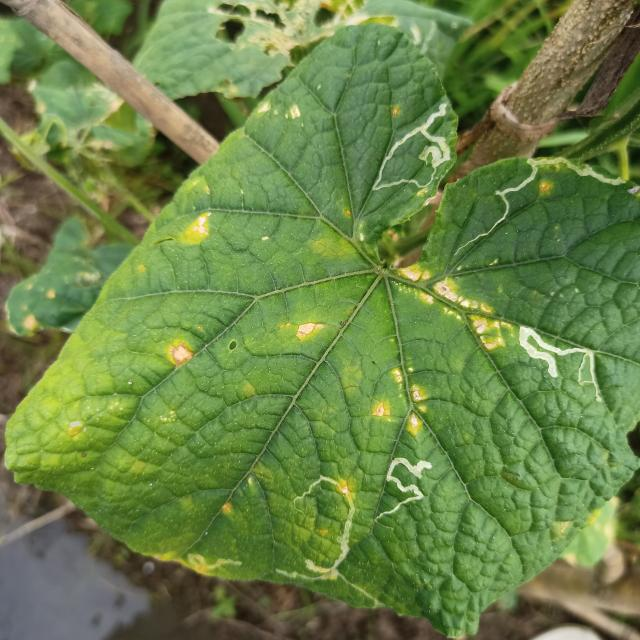disease_cucumber: (396, 261, 516, 353), (370, 363, 428, 439), (252, 100, 305, 126), (178, 210, 212, 249), (296, 320, 324, 345), (170, 342, 193, 365), (538, 181, 555, 195)
